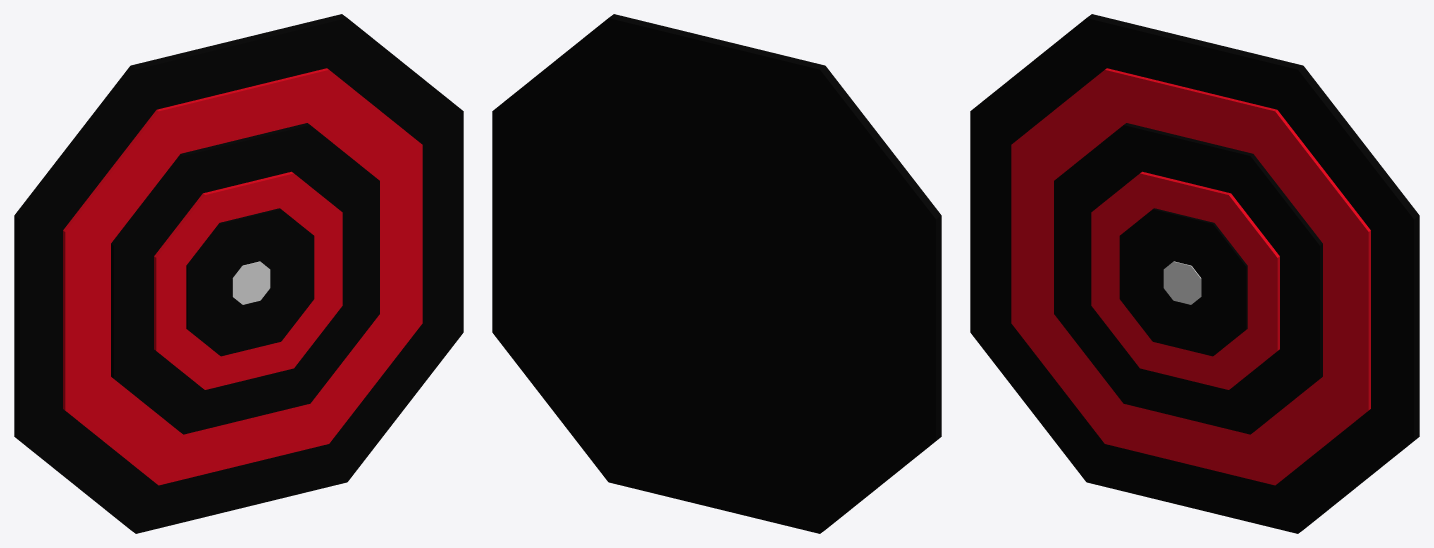
File: MISHEN1.fbx
The picture shows the model from 3 angles, left to right: view 1: azimuth 30°, elevation 25°; view 2: azimuth 150°, elevation 25°; view 3: azimuth 330°, elevation 25°; orthographic projection.
Parts seen in each view (by area): view 1: Cube.005; view 2: Cube.005; view 3: Cube.005.
Part boxes in pixels (left/top/right/bottom): Cube.005: left=14, top=14, right=463, bottom=533; Cube.005: left=492, top=14, right=941, bottom=533; Cube.005: left=970, top=14, right=1419, bottom=533.
Size of the model in its own units: 200 by 200 by 12.12.
